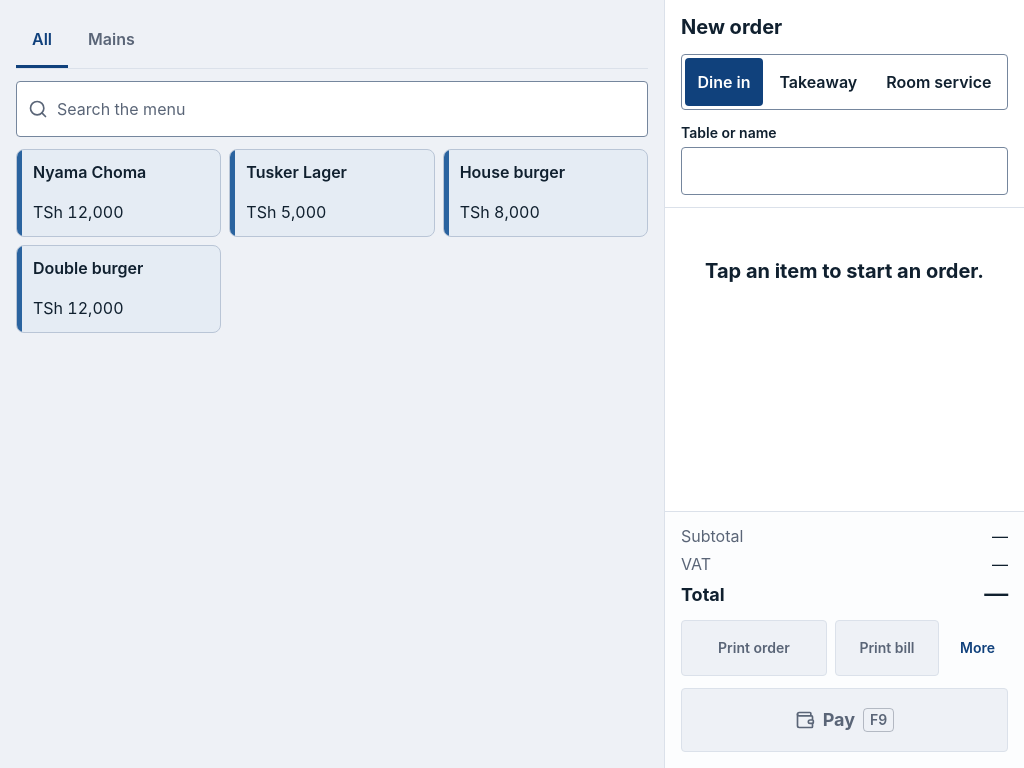
Scenario: NewOrder › builds a live ticket through createOrder and addItem
What coordinates should you click on to do the following:
click the button with test id "menu-Nyama Choma"
I would click on:
 (119, 193)
Its box is [16,149,221,237].
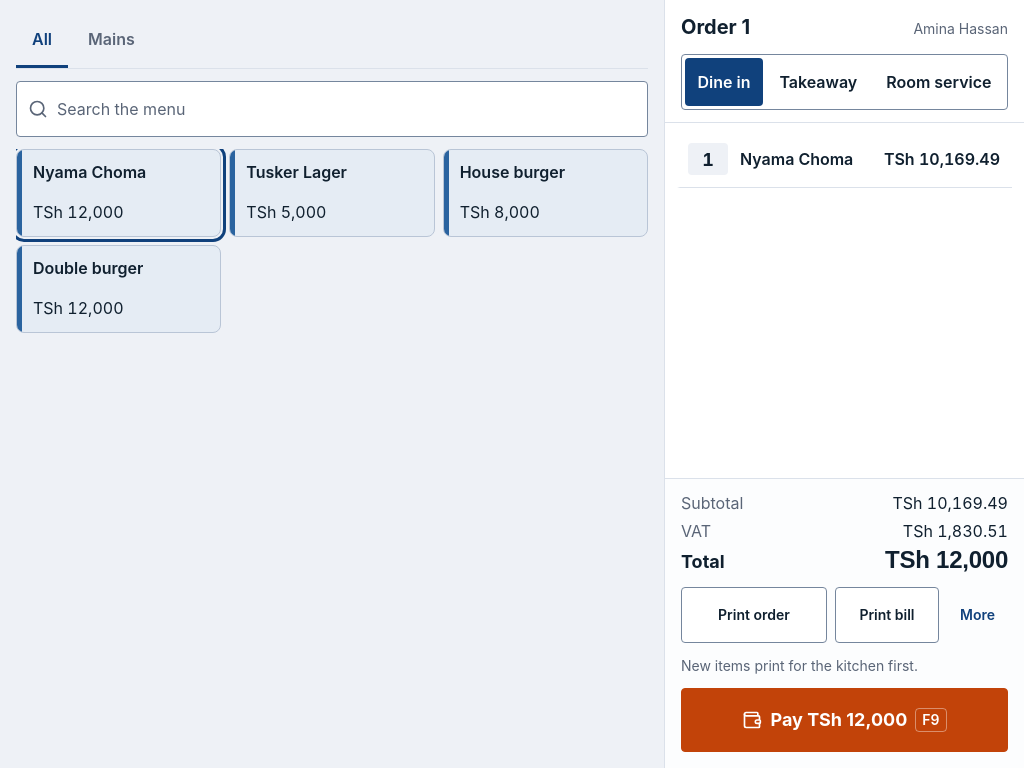
Check: the list item with test id "cart-Nyama Choma" is shown, box [677,131,1012,188]
Check: the element with test id "cart-preview-total" reads "TSh 12,000", box [885,546,1008,573]
Check: the button with test id "pay-order" is enabled, box [681,688,1008,752]
